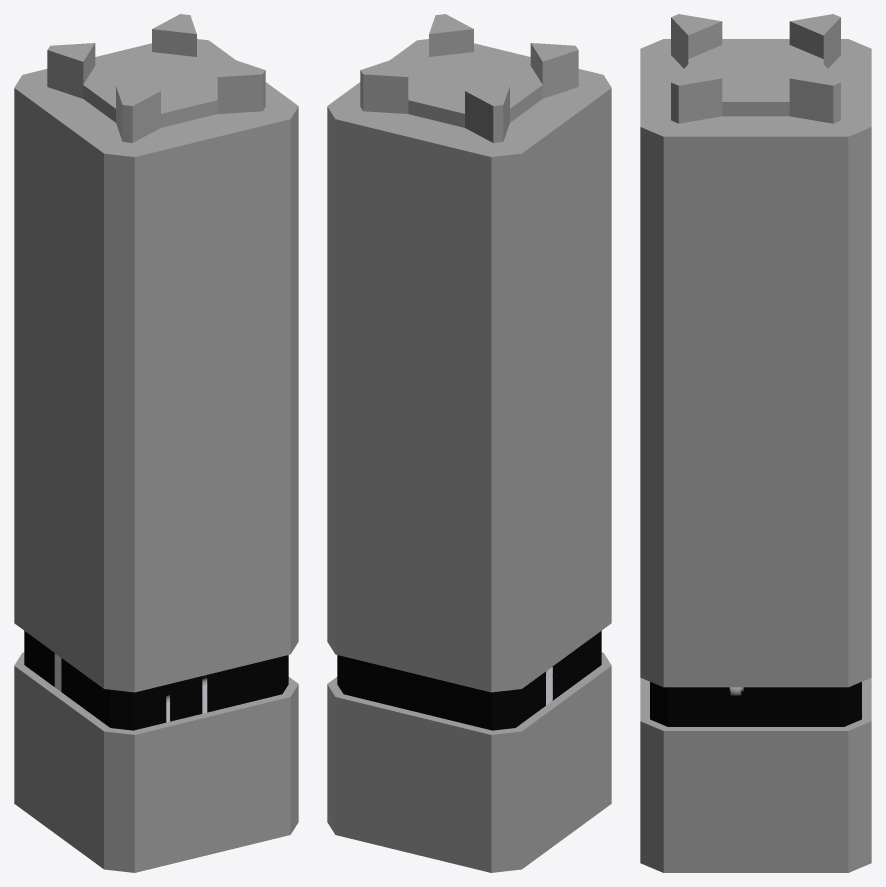
Rendered from Skyscrape03.fbx.
3 renders of one model, left to right at view 1: azimuth 30°, elevation 25°; view 2: azimuth 150°, elevation 25°; view 3: azimuth 270°, elevation 25°, orthographic. The views are drawn at different scales.
Visible parts, largest first — view 1: Skyscrape03; view 2: Skyscrape03; view 3: Skyscrape03.
Boxes of the visible parts, box(x1,y1,x2,y2) form: Skyscrape03: box(14, 14, 298, 872); Skyscrape03: box(327, 14, 611, 872); Skyscrape03: box(640, 14, 871, 872).
Bounding box in the file's own units: 0.473 × 1.75 × 0.473.
3 materials, 1 textured.
